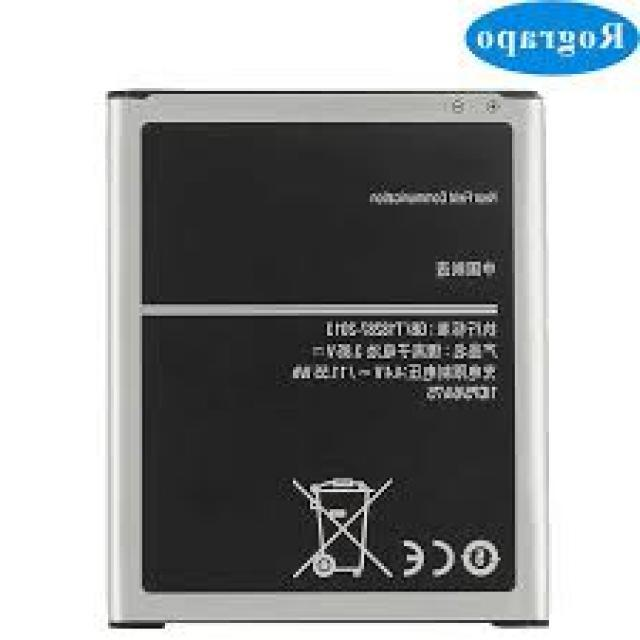battery: (108, 91, 544, 630)
